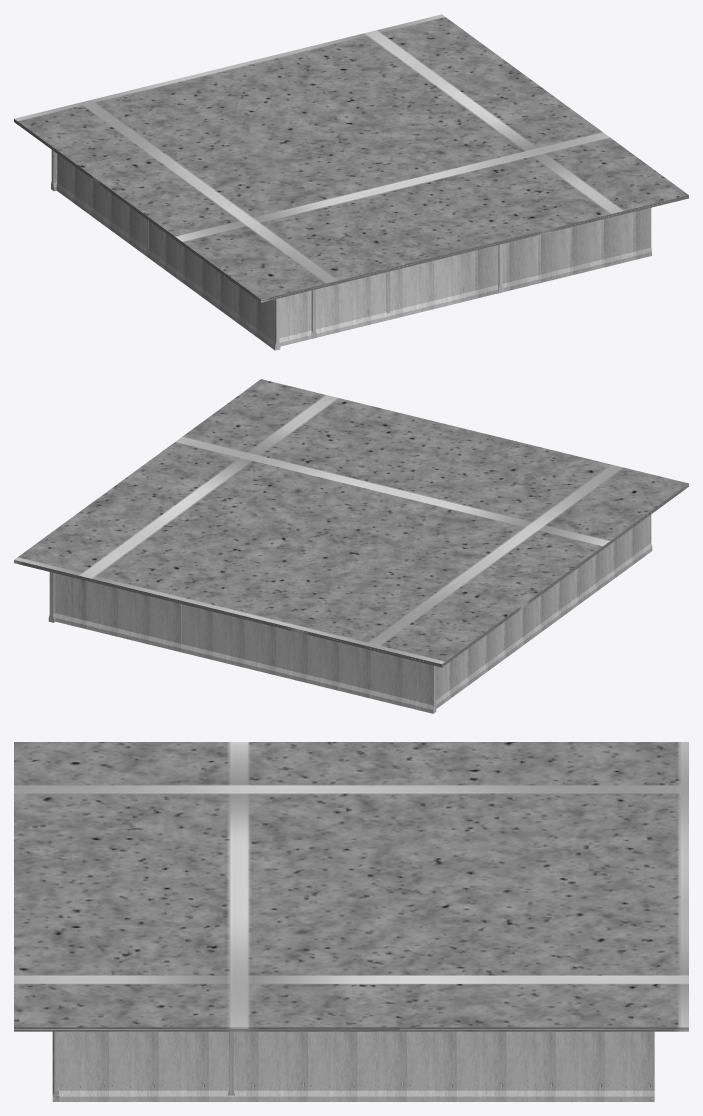
The model's file is labirin1.glb.
3 views of the same model, one above another, from view 1: azimuth 30°, elevation 25°; view 2: azimuth 150°, elevation 25°; view 3: azimuth 270°, elevation 25° (orthographic). The views are drawn at different scales.
Visible parts, largest first — view 1: atap, dinding.001; view 2: atap, dinding.001; view 3: atap, dinding.001.
Part boxes in pixels (box(x1,y1,x2,y2)): atap: box(14, 14, 688, 302); dinding.001: box(51, 150, 651, 350); atap: box(14, 379, 688, 667); dinding.001: box(48, 514, 652, 713); atap: box(14, 742, 688, 1031); dinding.001: box(52, 1031, 654, 1101).
Size of the model in its own units: 27.03 by 3.95 by 27.03.
Materials: 3 (3 with a texture image).
